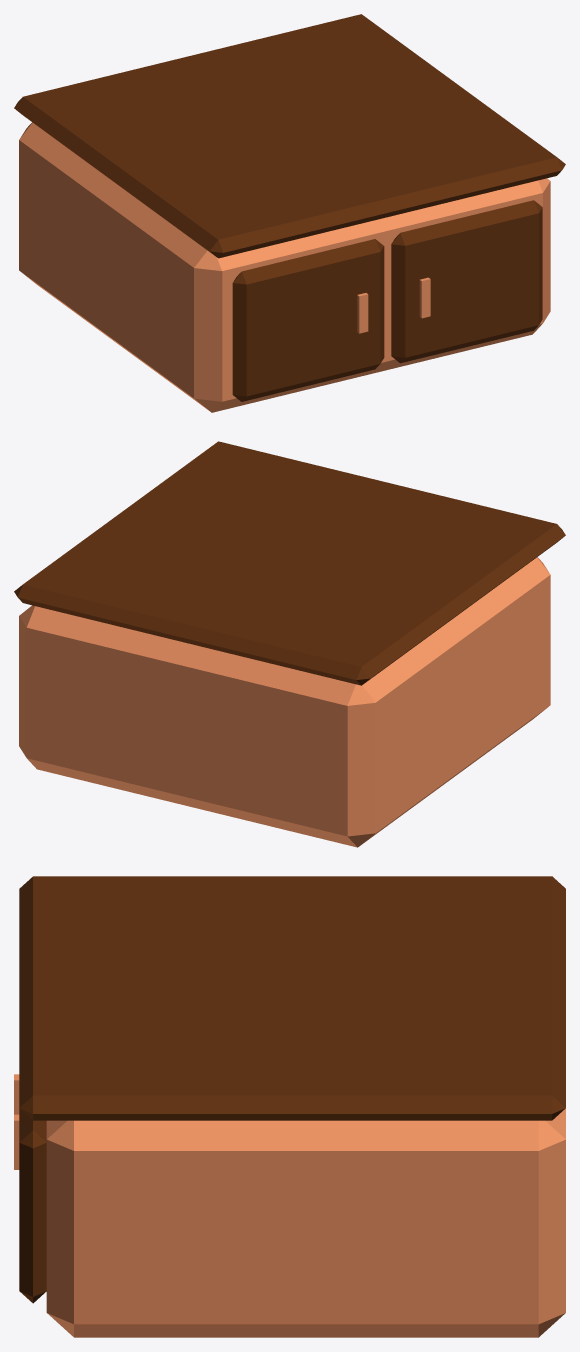
The model's file is EmptyStation.fbx.
3 renders of one model, top to bottom at view 1: azimuth 30°, elevation 25°; view 2: azimuth 150°, elevation 25°; view 3: azimuth 270°, elevation 25°, orthographic. The views are drawn at different scales.
Parts seen in each view (by area): view 1: Top.001; view 2: Top.001; view 3: Top.001.
Part boxes in pixels (<box>): Top.001: <box>14,14,565,412</box>; Top.001: <box>14,441,565,847</box>; Top.001: <box>14,876,565,1337</box>.
Size of the model in its own units: 200 by 100 by 202.
